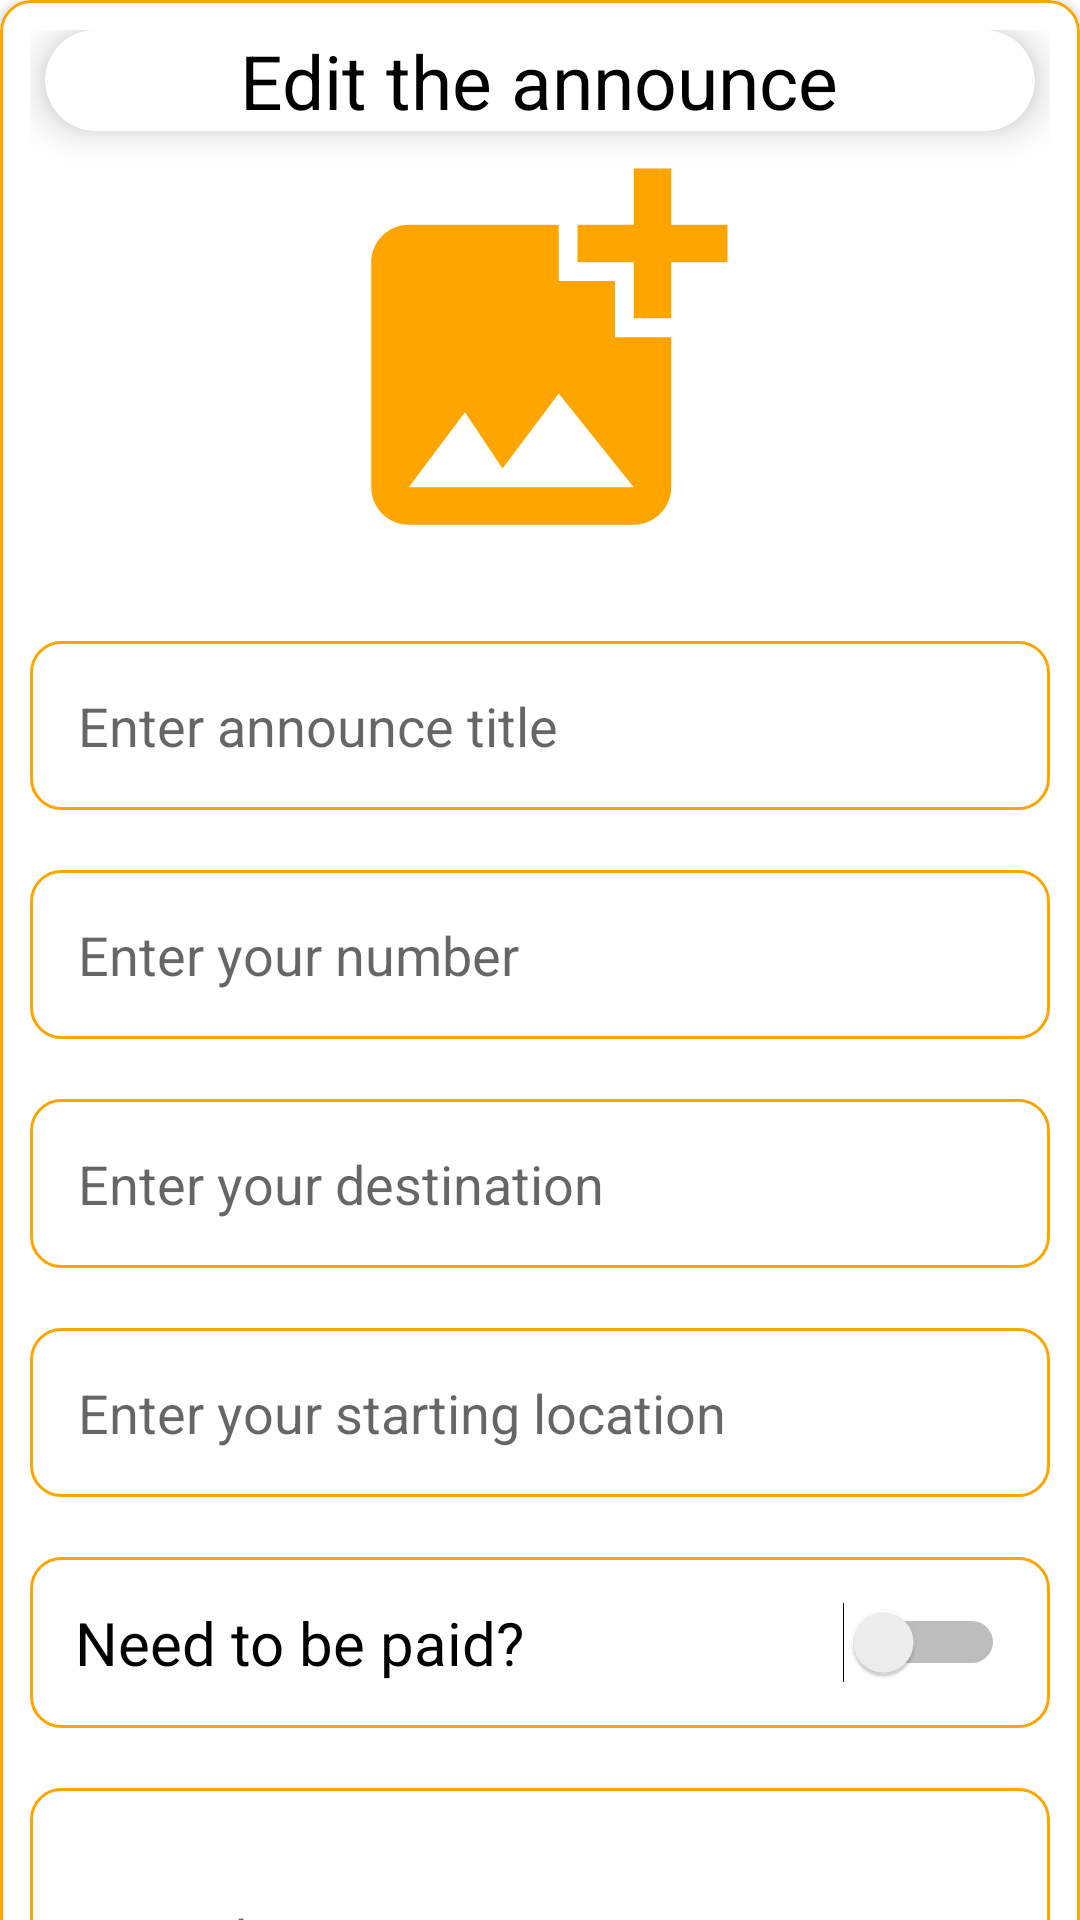

Icons on this 1080 x 1920 Android screen, each with the point to tap as [x,y]:
addimage: [549,346]
